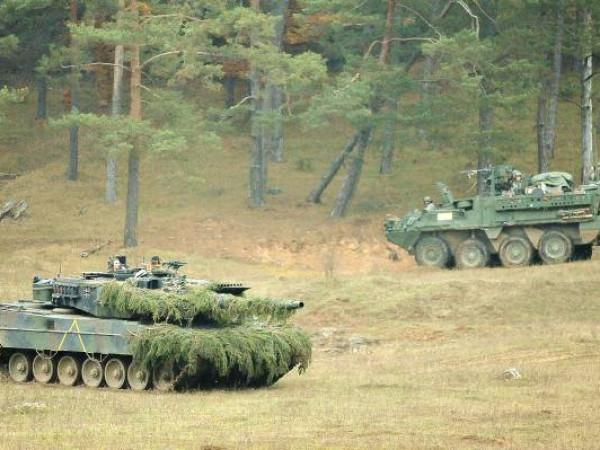tank: (0, 256, 313, 392), (384, 164, 600, 270)
